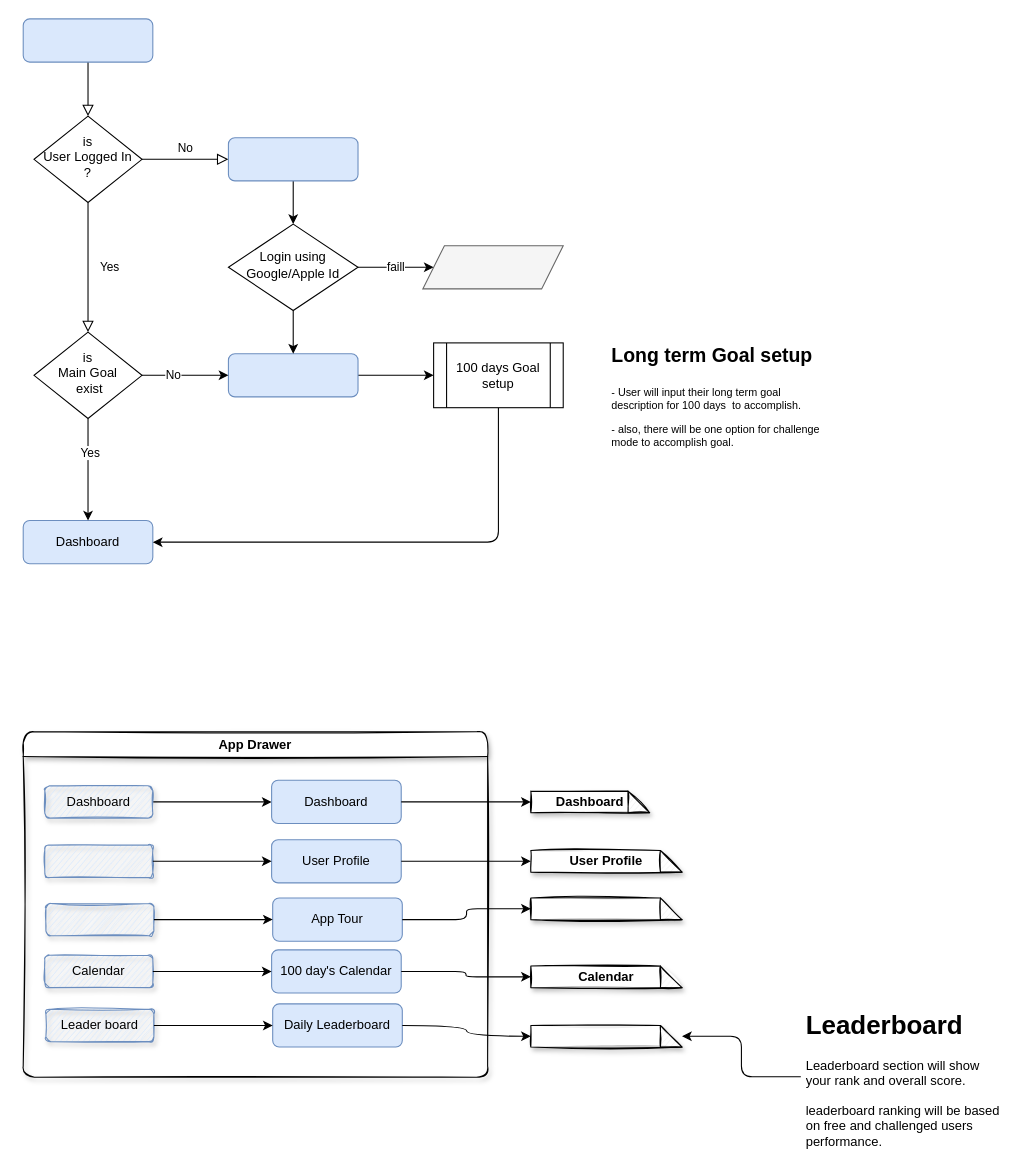
Image size: 1025x1169. Some labels were removed from this diagram. The shapes that lost their labels are listed below. From the top down, each one's centre as x and y in pixels, then its label:
point 87,40: Splash
point 292,159: User Login
point 492,267: Fail appropriate Message
point 292,375: Goal setup
point 99,862: Profile
point 100,920: Tour
point 606,910: Application Tour
point 606,1037: Leaderboard
